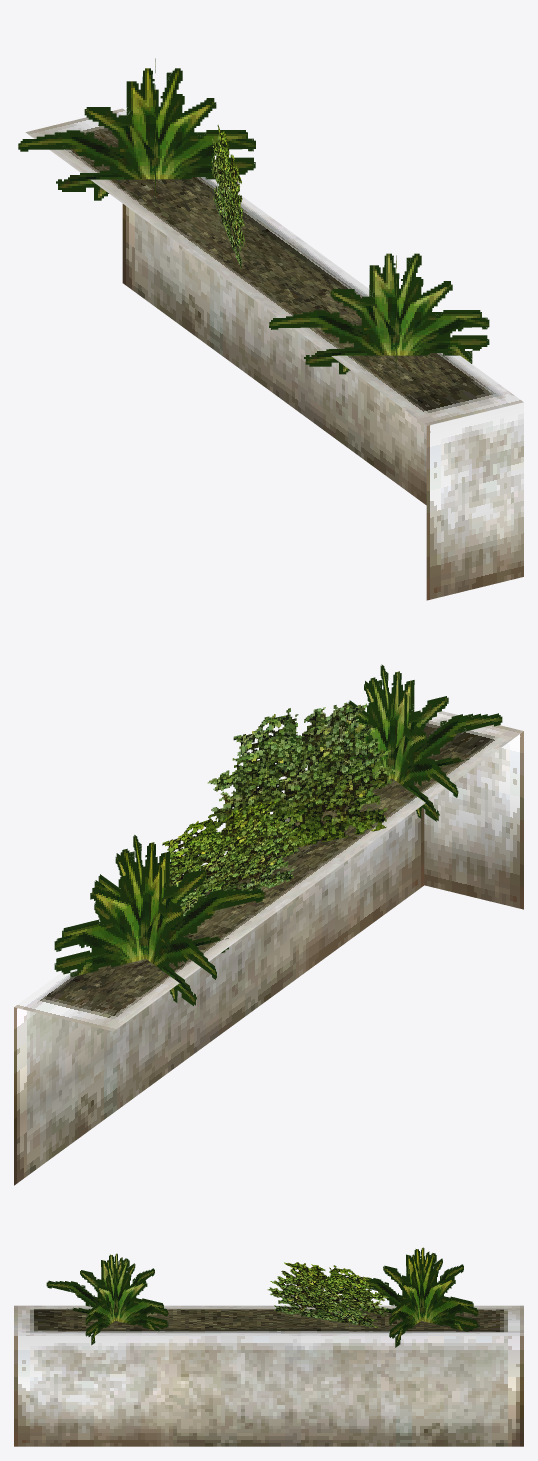
The model's file is stage-palm-p6-684.glb.
3 views of the same model, one above another, from view 1: azimuth 30°, elevation 25°; view 2: azimuth 150°, elevation 25°; view 3: azimuth 270°, elevation 25° (orthographic). The views are drawn at different scales.
Size of the model in its own units: 1.38 by 2.18 by 5.
4 materials, 4 textured.
